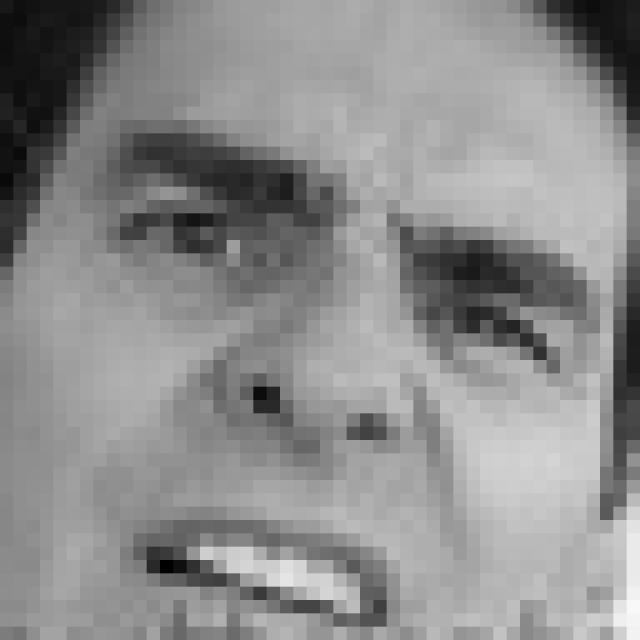disgust: (88, 127, 606, 640)
